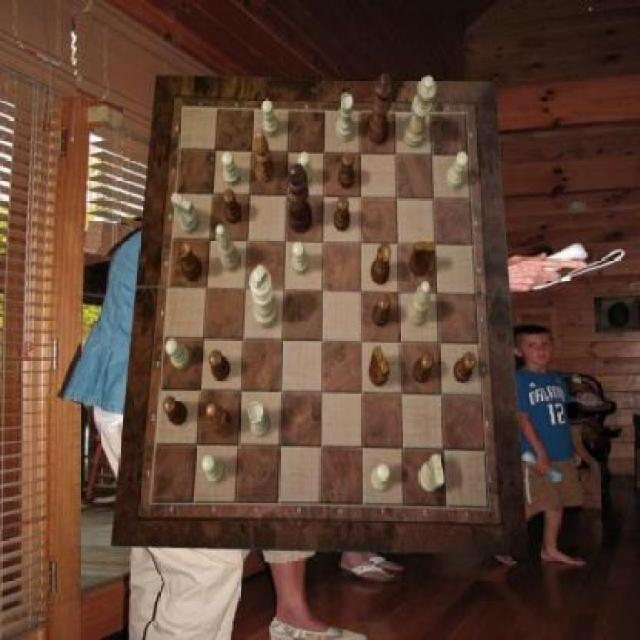bishop: (253, 129, 274, 183), (206, 404, 233, 440)
black-bishop: (288, 164, 314, 233)
black-king: (409, 242, 436, 278), (369, 345, 390, 386)
black-knight: (209, 351, 232, 382), (412, 352, 435, 383), (163, 397, 188, 425), (454, 354, 477, 384), (338, 152, 356, 190), (223, 189, 242, 224), (372, 295, 392, 328), (334, 195, 351, 230)
black-pawn: (366, 74, 394, 146)
black-queen: (177, 240, 203, 282), (371, 243, 392, 285)
black-rook: (217, 225, 241, 272), (408, 281, 430, 327)
white-bishop: (250, 264, 278, 328)
white-king: (171, 194, 200, 235), (418, 454, 446, 492)
white-knight: (446, 151, 469, 189), (166, 338, 191, 371), (202, 454, 226, 483), (263, 100, 280, 138), (222, 152, 240, 187), (292, 242, 310, 276), (296, 152, 312, 187), (371, 465, 391, 492)
white-pawn: (403, 77, 437, 149)
white-queen: (335, 94, 353, 143), (248, 402, 270, 439)
